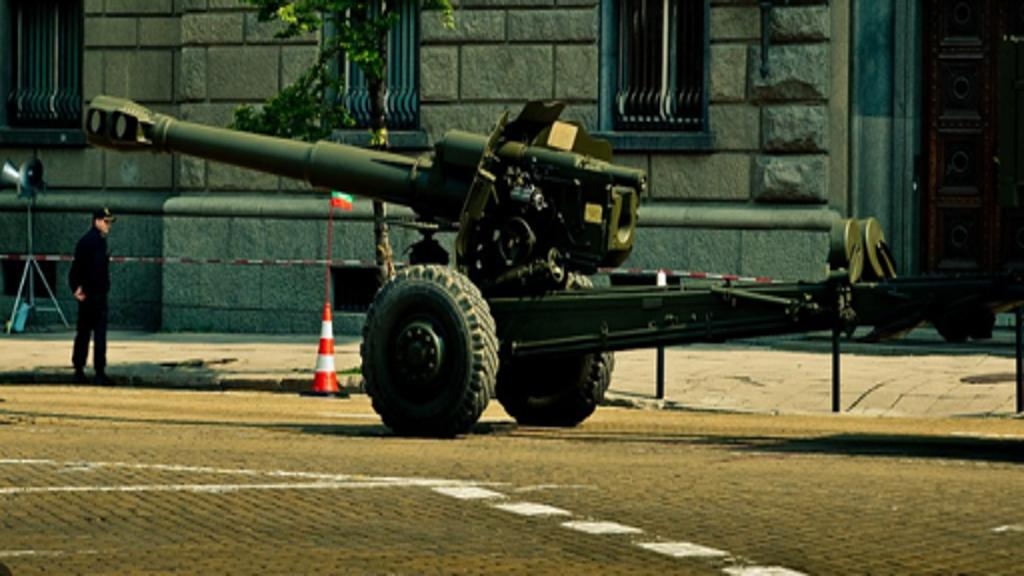ART: (80, 81, 896, 439)
